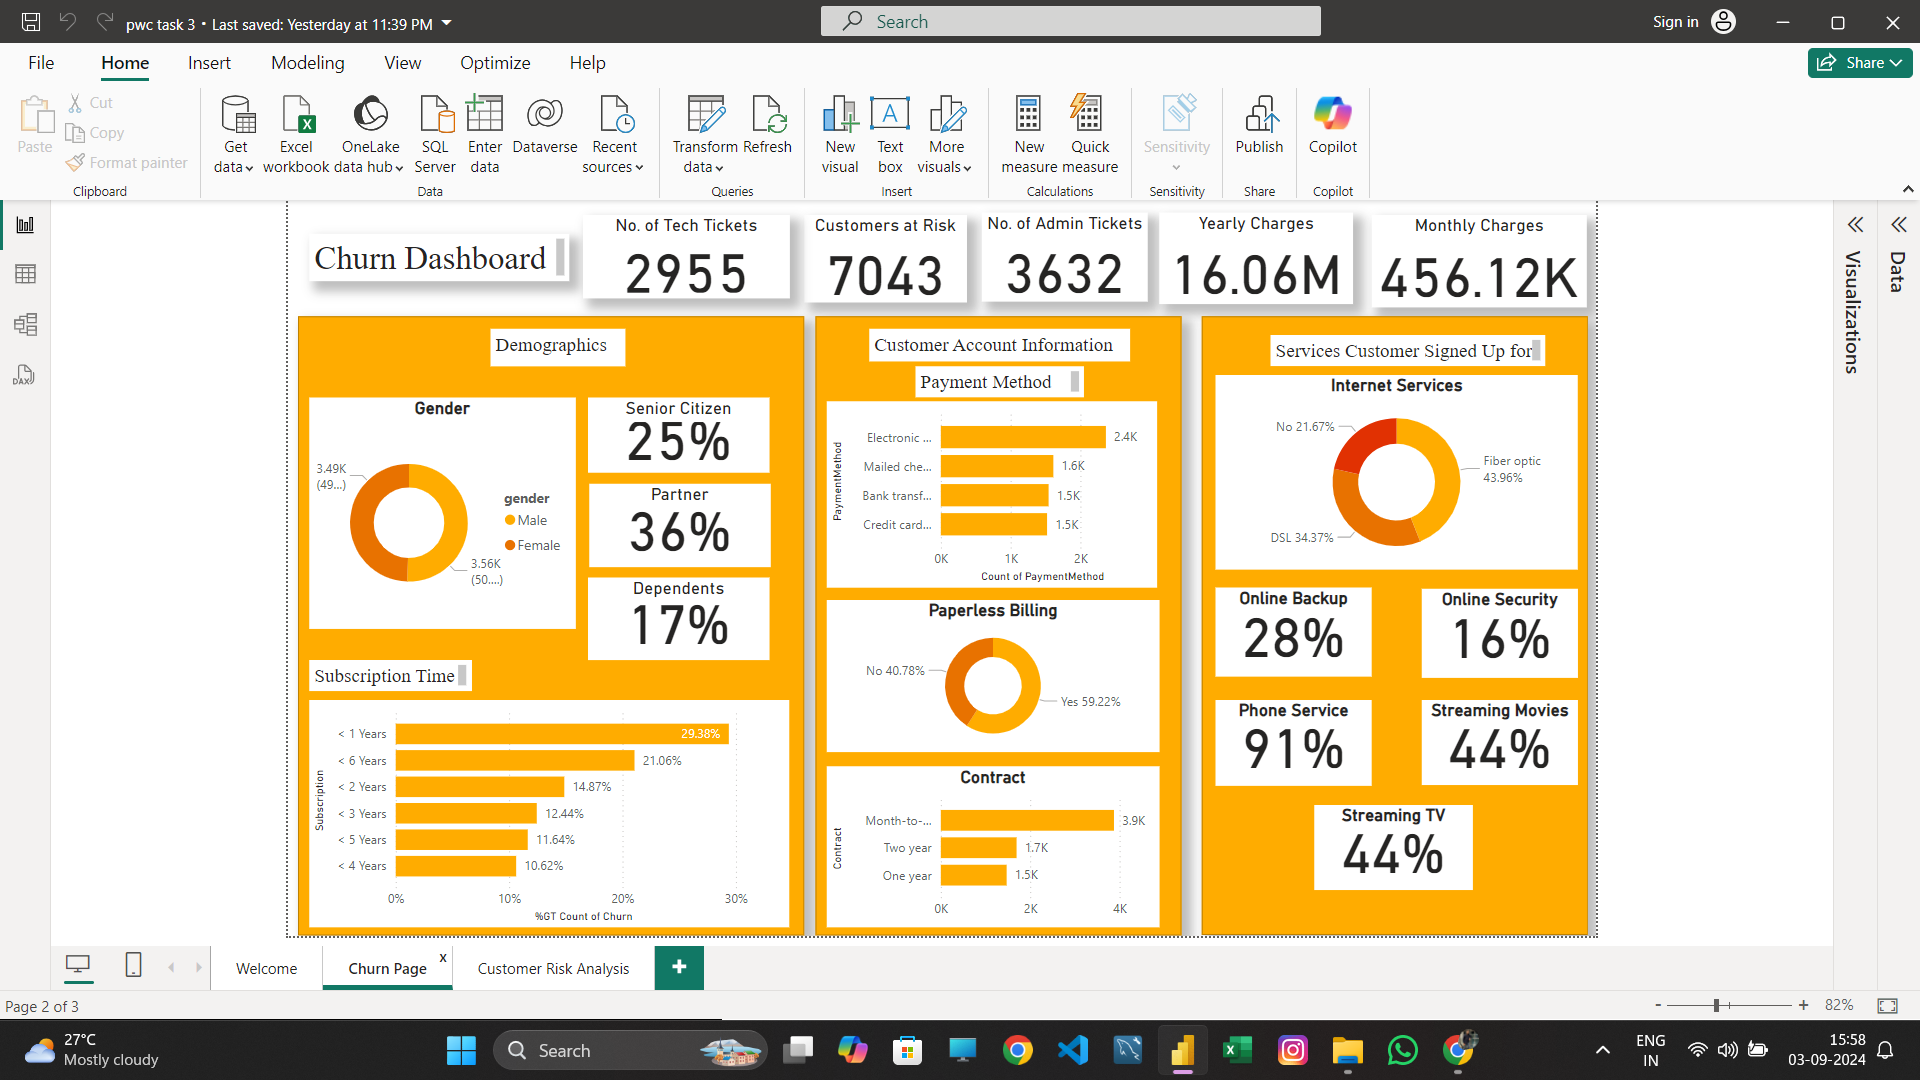

The dashboard page shown, as its layout file describes it:
{"tool":"powerbi","page":{"name":"Churn Page","canvas":[1280,720],"ordinal":1},"visuals":[{"type":"textbox","box":[20.8,33,254.3,46.5],"z":0},{"type":"card","title":"Customers at Risk","fields":{"Values":["01 Churn-Dataset.customerID"]},"box":[505,14.7,159,85.6],"z":1000},{"type":"card","title":"No. of Tech Tickets","fields":{"Values":["01 Churn-Dataset.numTechTickets"]},"box":[288.4,15.1,202.3,81.4],"z":2000},{"type":"card","title":"No. of Admin Tickets","fields":{"Values":["01 Churn-Dataset.numAdminTickets"]},"box":[678.7,12.2,162.6,86.8],"z":3000},{"type":"card","title":"Yearly Charges","fields":{"Values":["01 Churn-Dataset.TotalCharges"]},"box":[852.3,12.2,189.5,89.3],"z":4000},{"type":"card","title":"Monthly Charges","fields":{"Values":["01 Churn-Dataset.MonthlyCharges"]},"box":[1060.2,14.7,210.3,90.5],"z":5000},{"type":"shape","box":[9.3,114,495.4,605.8],"z":6000},{"type":"shape","box":[516.3,114,358.1,605.8],"z":7000},{"type":"shape","box":[893.9,113.7,377.9,605.3],"z":8000},{"type":"textbox","box":[198.1,126,132.1,36.7],"z":9000},{"type":"textbox","box":[961.1,132.1,269,30.6],"z":10000},{"type":"textbox","box":[568.6,126,255.6,31.8],"z":11000},{"type":"donutChart","title":"Gender","fields":{"Category":["01 Churn-Dataset.gender"],"Y":["01 Churn-Dataset.gender"]},"box":[20.8,193.2,260.5,226.2],"z":12000},{"type":"textbox","box":[20.8,450,159,30.6],"z":13000},{"type":"clusteredBarChart","fields":{"Category":["01 Churn-Dataset.Subscription"],"Y":["01 Churn-Dataset.Churn"]},"box":[20.8,489.1,469.6,222.6],"z":14000},{"type":"card","title":"Senior Citizen","fields":{"Values":["01 Churn-Dataset.% of Senior Citizen"]},"box":[293.5,193.2,177.3,73.4],"z":15000},{"type":"card","title":"Partner","fields":{"Values":["01 Churn-Dataset.% of Partner"]},"box":[294.7,277.6,177.3,81.9],"z":16000},{"type":"card","title":"Dependents","fields":{"Values":["01 Churn-Dataset.% of Dependents"]},"box":[293.5,369.3,177.3,80.7],"z":17000},{"type":"textbox","box":[613.9,162.6,165.1,30.6],"z":18000},{"type":"clusteredBarChart","fields":{"Category":["01 Churn-Dataset.PaymentMethod"],"Y":["01 Churn-Dataset.PaymentMethod"]},"box":[526.7,196.5,323.3,182.6],"z":19000},{"type":"donutChart","title":"Paperless Billing","fields":{"Category":["01 Churn-Dataset.PaperlessBilling"],"Y":["01 Churn-Dataset.PaperlessBilling"]},"box":[526.7,390.7,325.6,148.8],"z":20000},{"type":"clusteredBarChart","title":"Contract","fields":{"Category":["01 Churn-Dataset.Contract"],"Y":["01 Churn-Dataset.Contract"]},"box":[527,553.9,325.3,157.7],"z":21000},{"type":"donutChart","title":"Internet Services","fields":{"Category":["01 Churn-Dataset.InternetService"],"Y":["01 Churn-Dataset.InternetService"]},"box":[907.3,171.2,354.6,190.8],"z":22000},{"type":"card","title":"Online Backup","fields":{"Values":["01 Churn-Dataset.Online Backup in %"]},"box":[907.3,379.1,152.9,86.8],"z":23000},{"type":"card","title":"Online Security","fields":{"Values":["01 Churn-Dataset.Online Security in %"]},"box":[1109.1,380.3,152.9,86.8],"z":24000},{"type":"card","title":"Phone Service","fields":{"Values":["01 Churn-Dataset.Phone Service in %"]},"box":[907.3,489.1,152.9,84.4],"z":25000},{"type":"card","title":"Streaming Movies","fields":{"Values":["01 Churn-Dataset.Streaming Movies in %"]},"box":[1109.1,489.1,152.9,83.2],"z":26000},{"type":"card","title":"Streaming TV","fields":{"Values":["01 Churn-Dataset.Streaming TV in %"]},"box":[1003.9,591.9,155.3,83.2],"z":27000}]}

Visuals, with their boxes on the page's 1280x720 design canvas (x1, y1, x2, y2). These are canvas units, not pixel positions in the 1920x1080 screenshot, which may show the page scaled, cropped or inside an application window:
textbox: select_region(21, 33, 275, 80)
"Customers at Risk" card: select_region(505, 15, 664, 100)
"No. of Tech Tickets" card: select_region(288, 15, 491, 96)
"No. of Admin Tickets" card: select_region(679, 12, 841, 99)
"Yearly Charges" card: select_region(852, 12, 1042, 102)
"Monthly Charges" card: select_region(1060, 15, 1270, 105)
shape: select_region(9, 114, 505, 720)
shape: select_region(516, 114, 874, 720)
shape: select_region(894, 114, 1272, 719)
textbox: select_region(198, 126, 330, 163)
textbox: select_region(961, 132, 1230, 163)
textbox: select_region(569, 126, 824, 158)
"Gender" donutChart: select_region(21, 193, 281, 419)
textbox: select_region(21, 450, 180, 481)
clusteredBarChart - 01 Churn-Dataset.Subscription x 01 Churn-Dataset.Churn: select_region(21, 489, 490, 712)
"Senior Citizen" card: select_region(294, 193, 471, 267)
"Partner" card: select_region(295, 278, 472, 360)
"Dependents" card: select_region(294, 369, 471, 450)
textbox: select_region(614, 163, 779, 193)
clusteredBarChart - 01 Churn-Dataset.PaymentMethod x 01 Churn-Dataset.PaymentMethod: select_region(527, 196, 850, 379)
"Paperless Billing" donutChart: select_region(527, 391, 852, 540)
"Contract" clusteredBarChart: select_region(527, 554, 852, 712)
"Internet Services" donutChart: select_region(907, 171, 1262, 362)
"Online Backup" card: select_region(907, 379, 1060, 466)
"Online Security" card: select_region(1109, 380, 1262, 467)
"Phone Service" card: select_region(907, 489, 1060, 574)
"Streaming Movies" card: select_region(1109, 489, 1262, 572)
"Streaming TV" card: select_region(1004, 592, 1159, 675)
